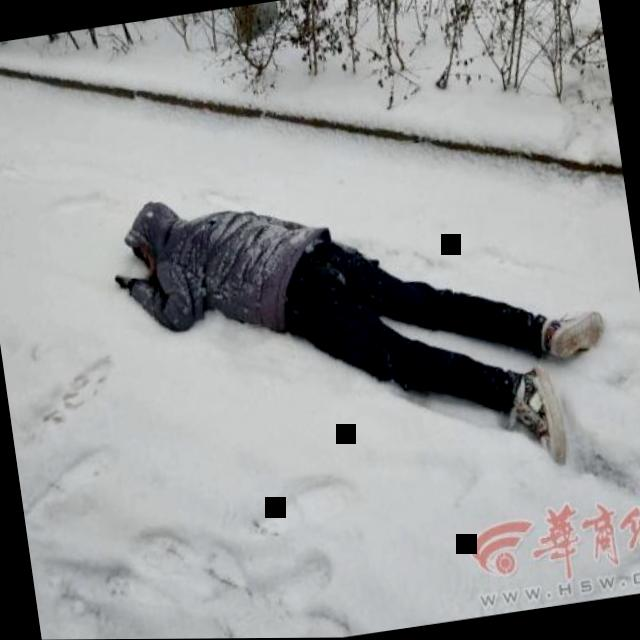Fall-Detected: (88, 122, 616, 504)
